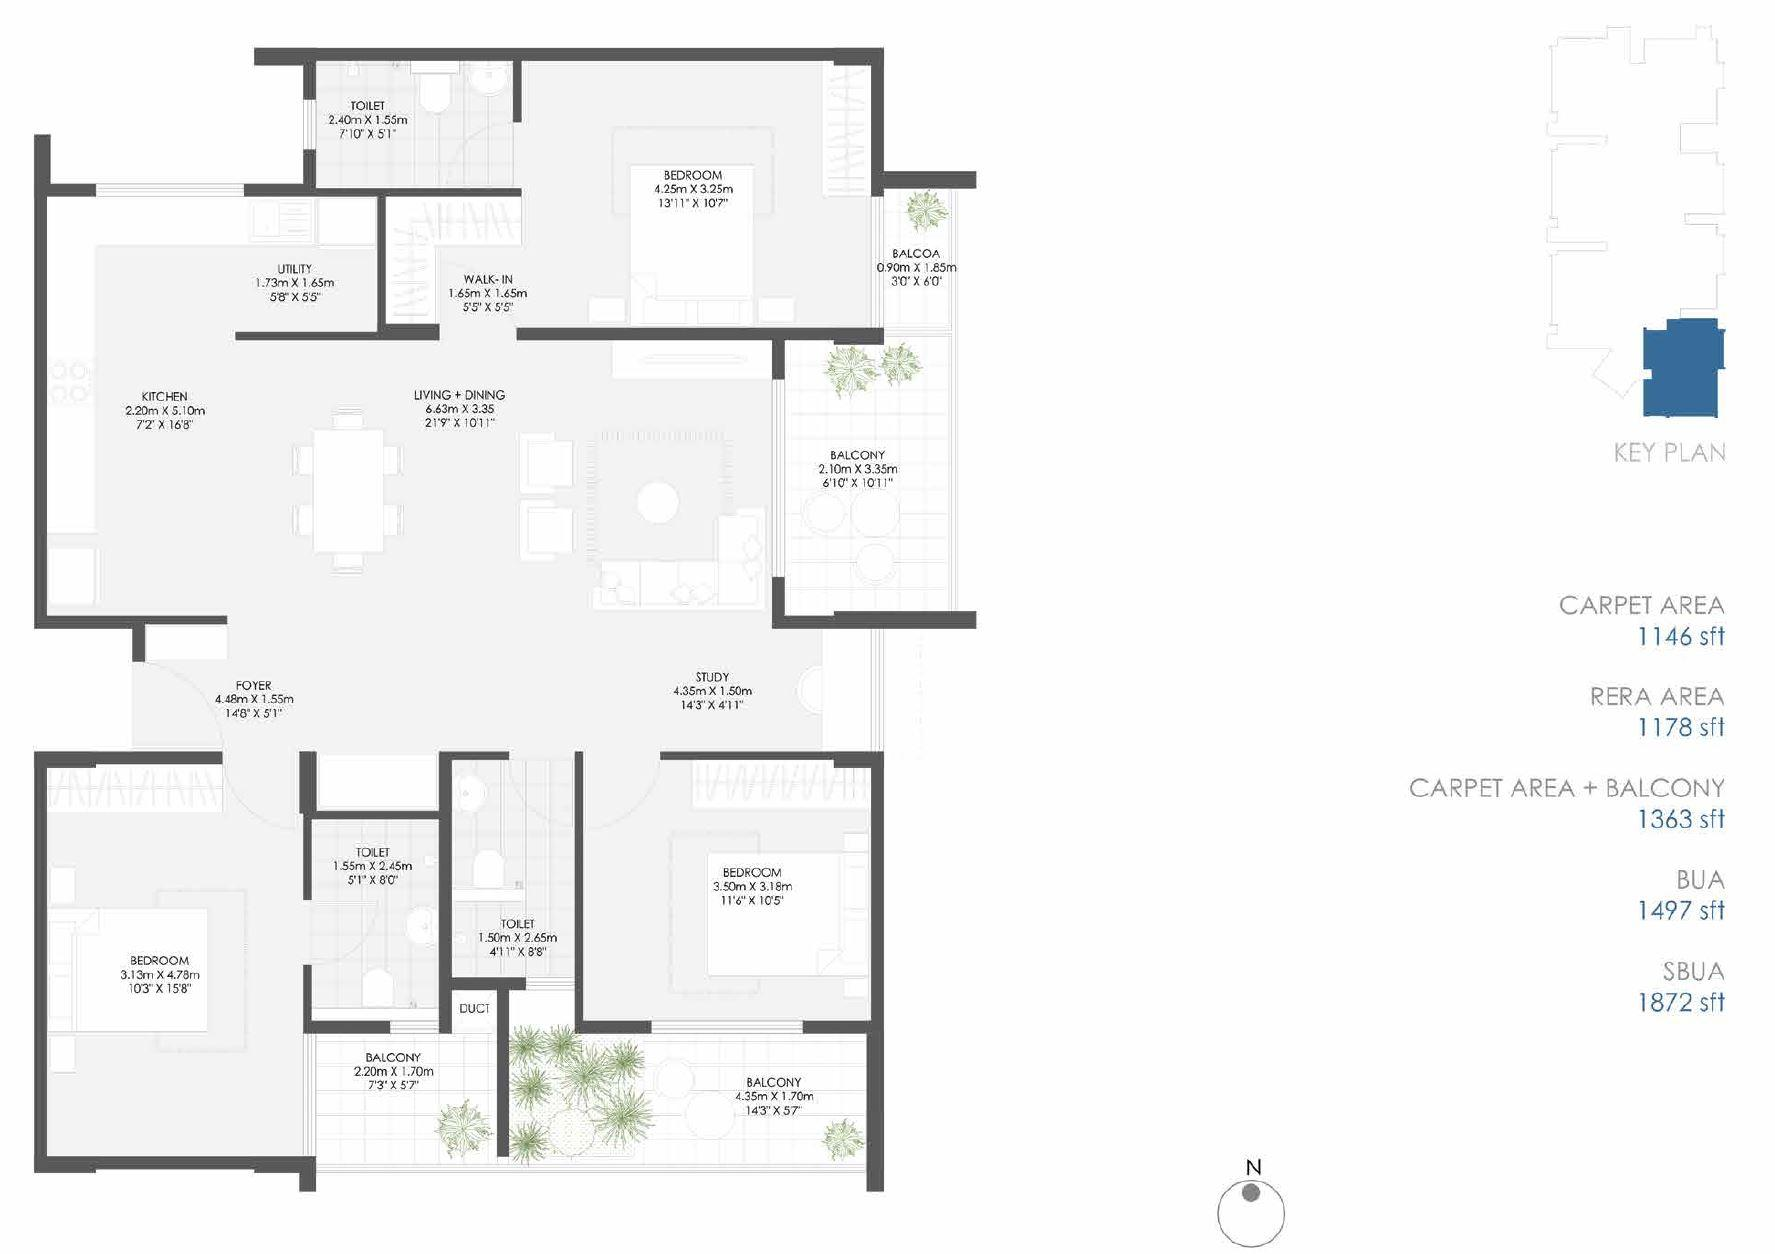Balcony: (772, 332, 950, 613), (506, 1035, 869, 1166)
Bed: (45, 905, 209, 1025), (628, 166, 750, 323), (714, 855, 870, 977)
Bedroom: (47, 765, 304, 1151), (522, 61, 869, 328), (582, 759, 869, 1025)
Dining Room: (261, 343, 499, 609)
Dining table: (274, 404, 417, 581)
Foyer: (322, 626, 875, 750), (134, 636, 356, 748)
Kitchen: (35, 191, 247, 620)
Living Room: (497, 342, 772, 609)
Wardrobe: (696, 760, 871, 809), (383, 191, 527, 248), (46, 765, 225, 806), (319, 752, 436, 809), (818, 68, 870, 195), (388, 199, 433, 324), (147, 627, 227, 658), (452, 987, 499, 1031)
balcoa: (878, 187, 955, 331)
door: (430, 256, 521, 342), (137, 660, 228, 744), (300, 893, 385, 974), (585, 755, 668, 835), (437, 107, 520, 185), (764, 373, 795, 575), (228, 760, 312, 835), (502, 753, 571, 832), (649, 1015, 805, 1045), (292, 1026, 323, 1167)
fridge: (45, 550, 98, 603)
kitchen-slab: (43, 198, 95, 527), (49, 191, 324, 250)
sink: (233, 199, 313, 250)
stove: (45, 353, 95, 408)
toilet: (307, 818, 440, 1025), (307, 60, 517, 190), (453, 761, 570, 981)
utility: (231, 194, 376, 332)
walkin: (388, 197, 525, 341)
washing-machine: (320, 194, 380, 252)
